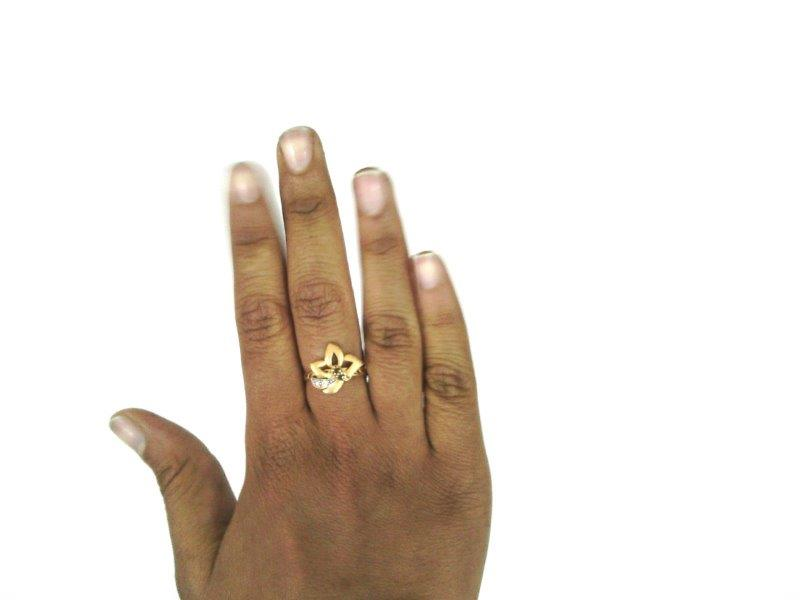hand: (111, 126, 491, 596)
